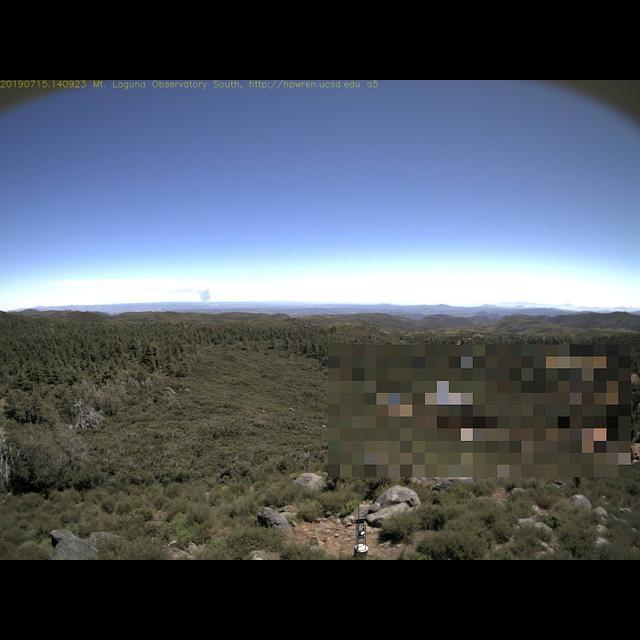Smoke: (194, 286, 211, 304)
